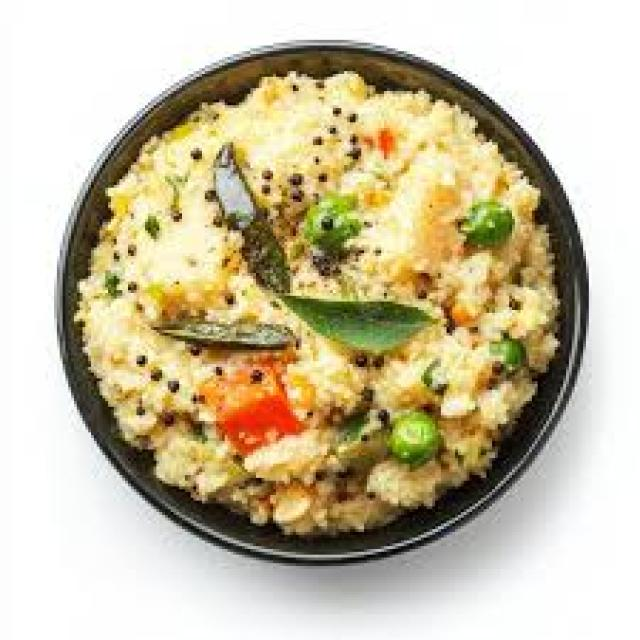UPMA: (68, 74, 560, 529)
